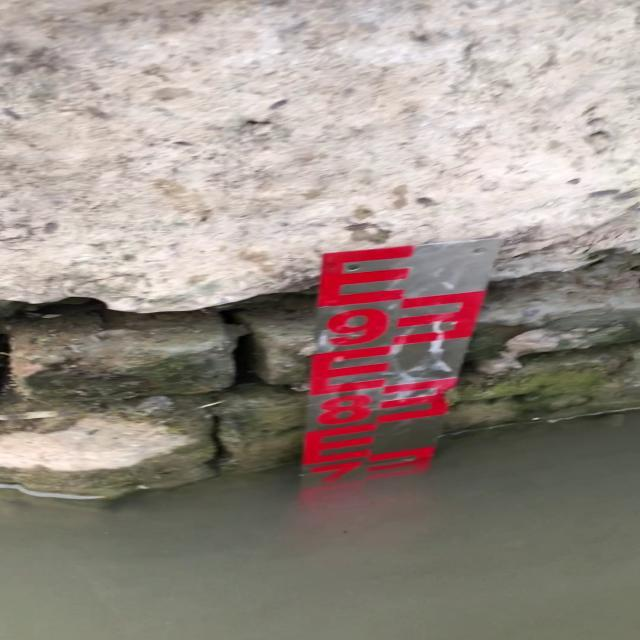ruler: (282, 227, 509, 501)
value: (314, 301, 401, 353), (305, 390, 382, 432)
